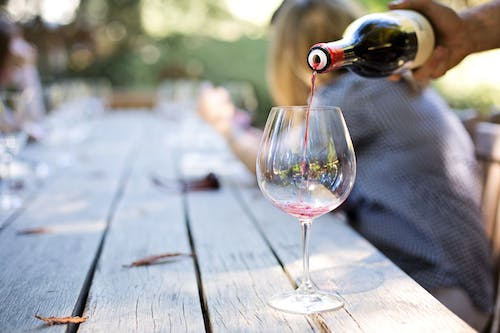alcohol: (255, 104, 357, 316), (305, 7, 441, 80)
